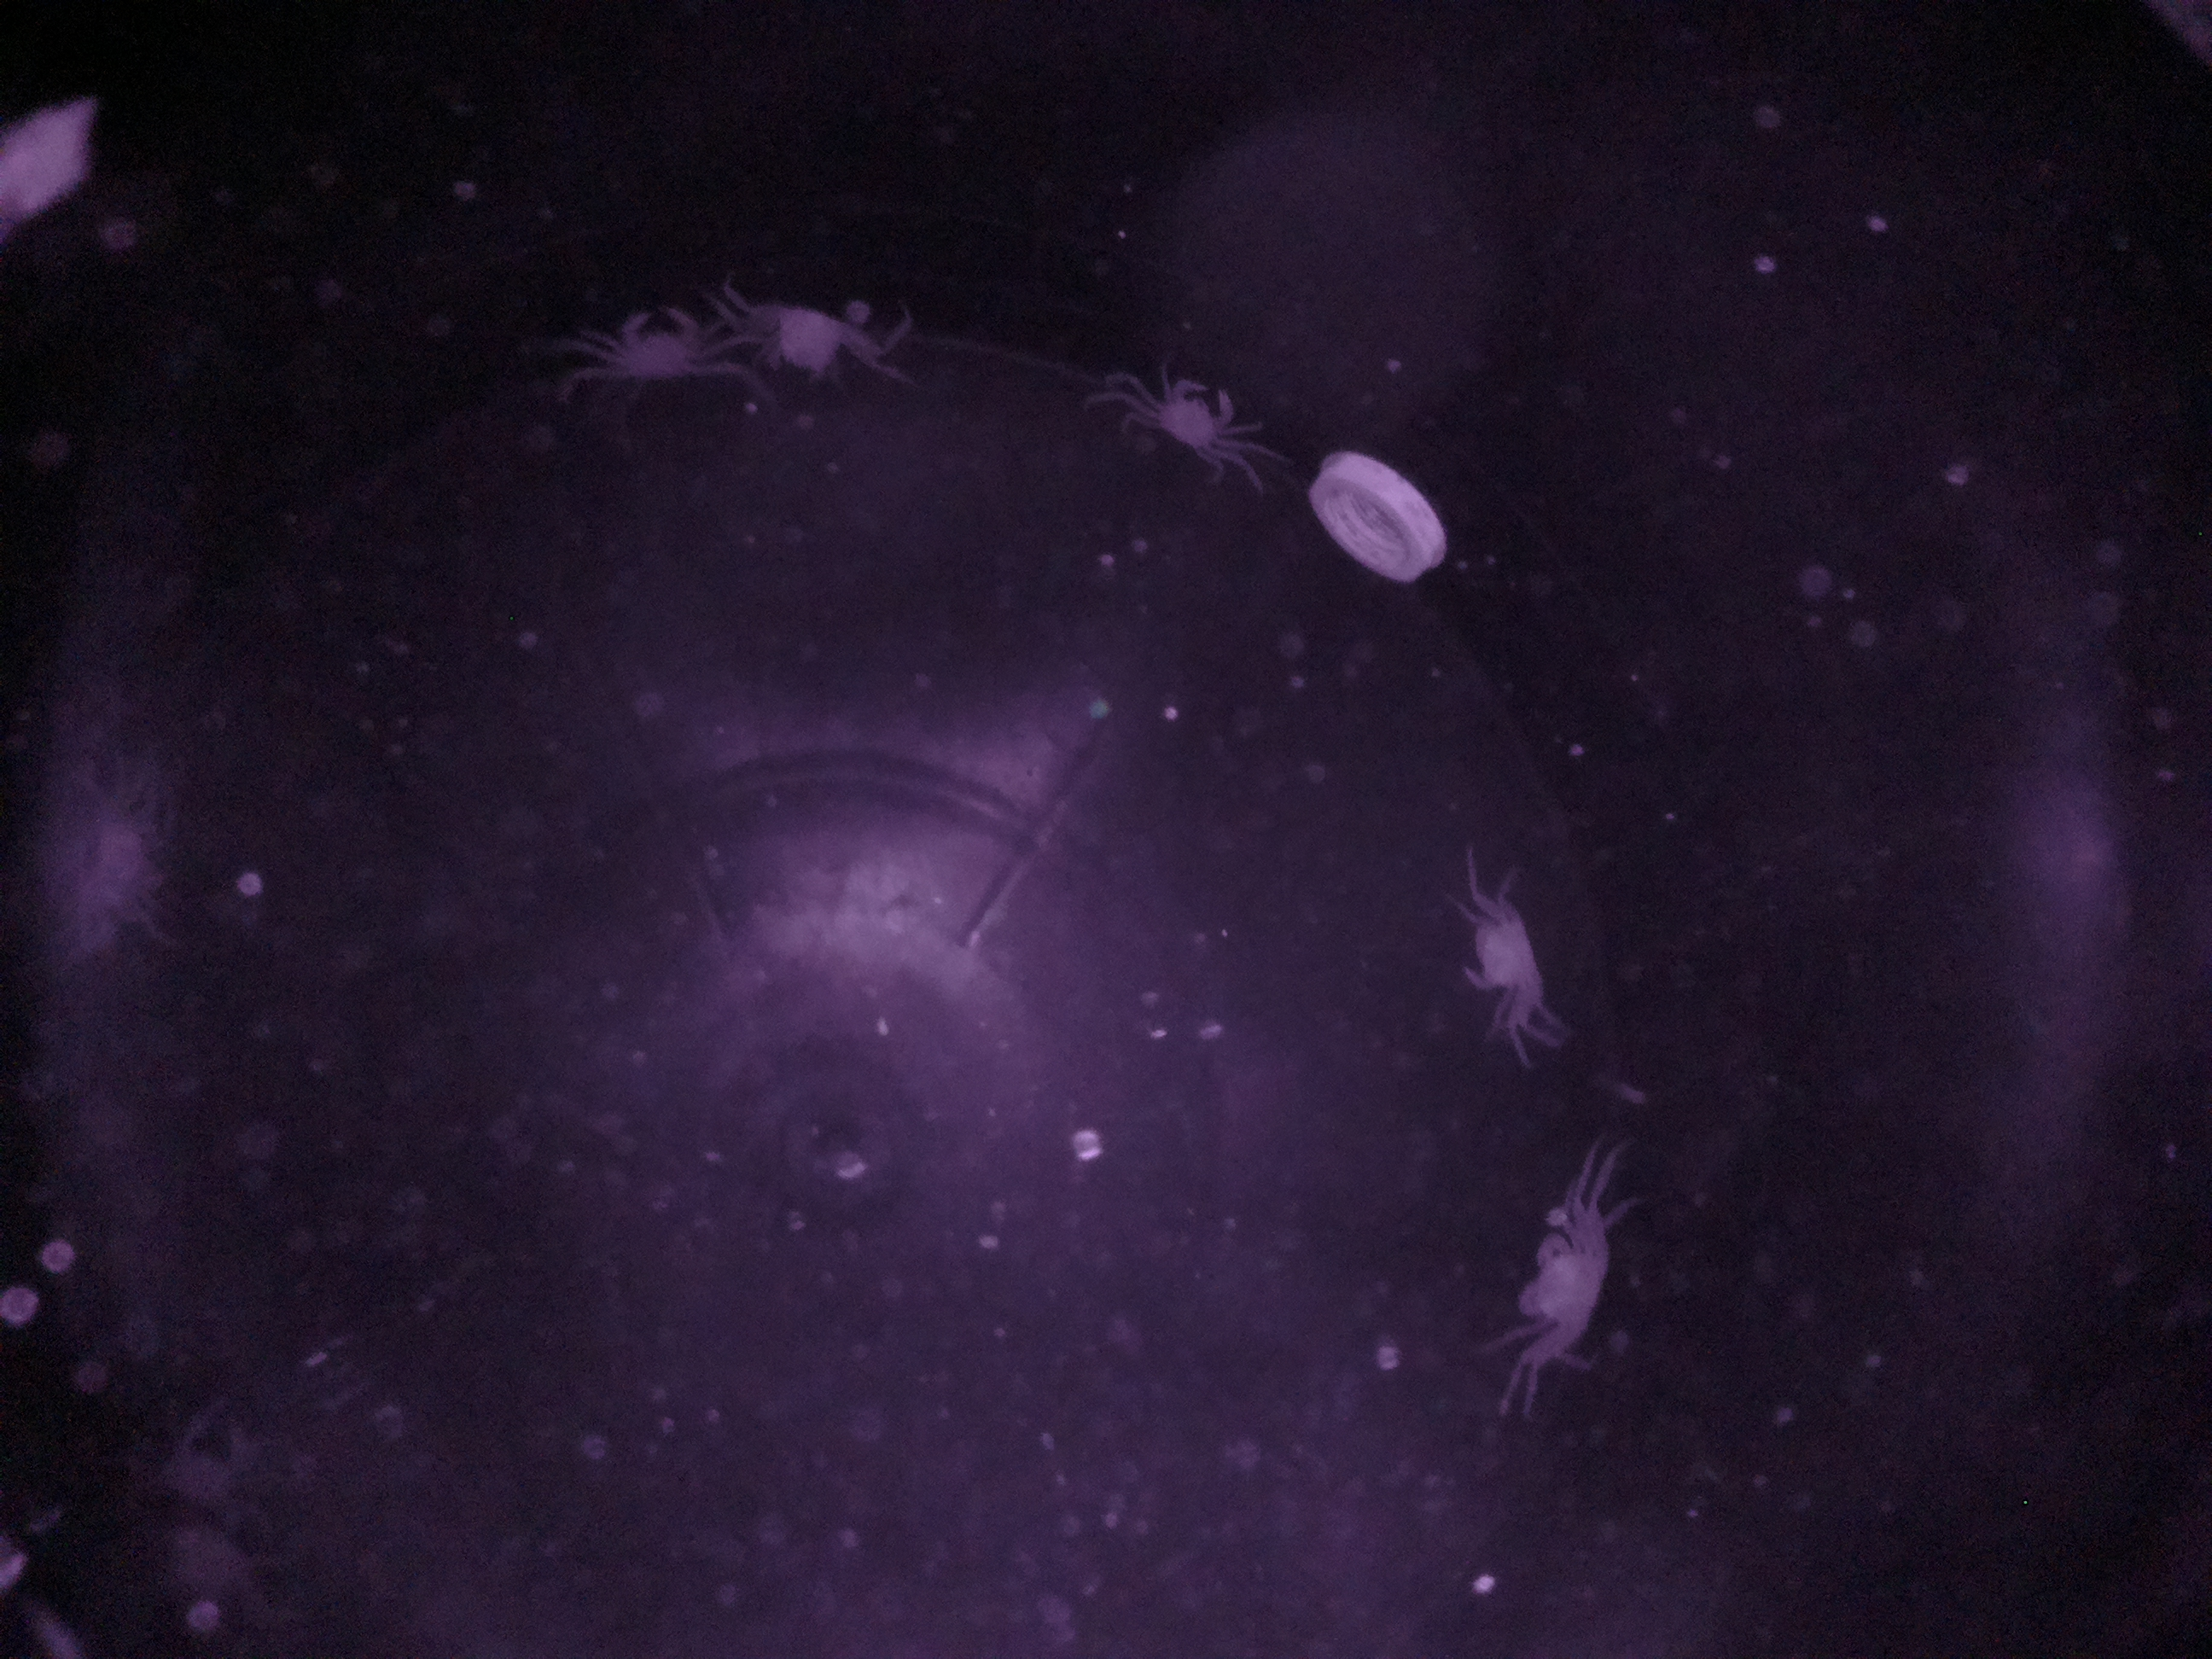Crab: (1486, 1202, 1632, 1375), (1442, 873, 1561, 1023), (594, 286, 732, 415), (1139, 352, 1259, 493), (745, 282, 871, 408)
